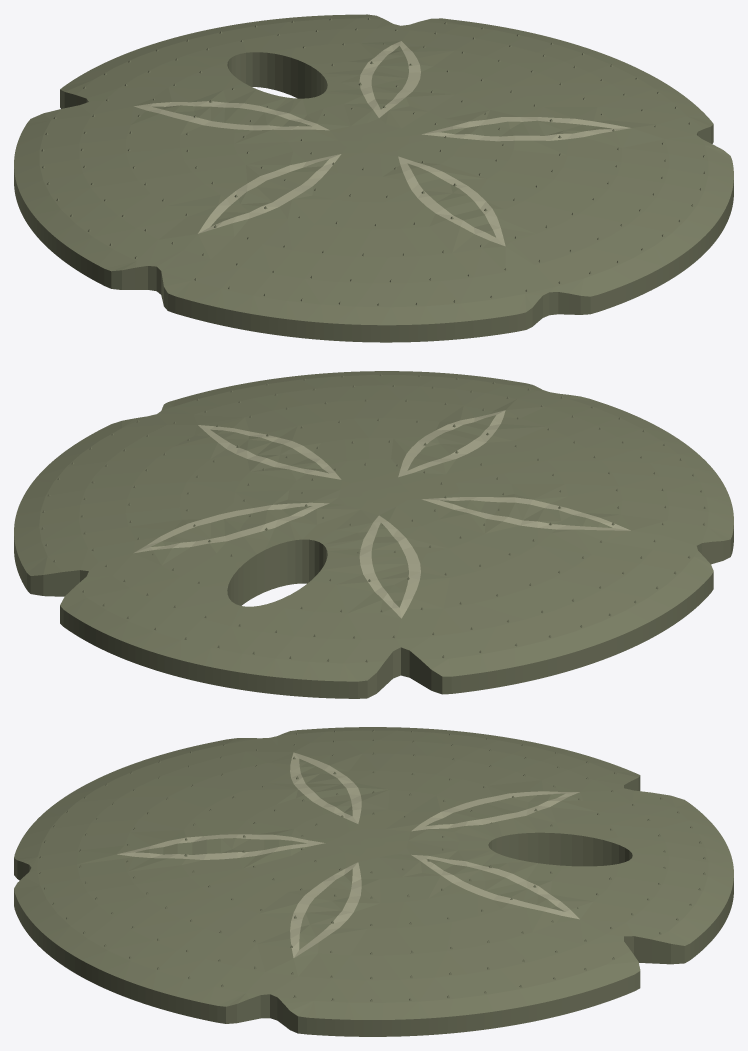
3 views of the same model, one above another, from view 1: azimuth 30°, elevation 25°; view 2: azimuth 150°, elevation 25°; view 3: azimuth 270°, elevation 25° (orthographic). The views are drawn at different scales.
Parts seen in each view (by area): view 1: living-test-with-five-notches-and-posterior-lunule, restrained-living-short-spine-cover; view 2: living-test-with-five-notches-and-posterior-lunule, restrained-living-short-spine-cover; view 3: living-test-with-five-notches-and-posterior-lunule, restrained-living-short-spine-cover.
Part boxes in pixels (x1,y1,x2,y2): living-test-with-five-notches-and-posterior-lunule: (14, 14, 733, 342); restrained-living-short-spine-cover: (41, 17, 706, 305); living-test-with-five-notches-and-posterior-lunule: (14, 371, 733, 698); restrained-living-short-spine-cover: (41, 374, 706, 662); living-test-with-five-notches-and-posterior-lunule: (14, 727, 733, 1036); restrained-living-short-spine-cover: (39, 729, 705, 1001).
Size of the model in its own units: 0.0672 by 0.00533 by 0.0698.
